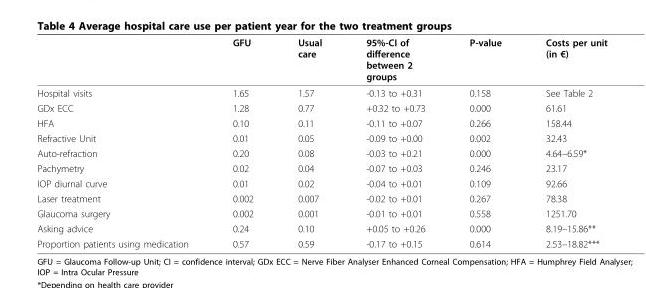table: (36, 36, 606, 248)
table column: (36, 36, 209, 248), (343, 36, 446, 248), (522, 36, 606, 248), (446, 36, 522, 248), (275, 36, 343, 248), (209, 36, 275, 248)
table column header: (36, 36, 606, 84)
table row: (36, 36, 606, 84), (36, 84, 606, 100), (36, 100, 606, 115), (36, 115, 606, 130), (36, 130, 606, 145), (36, 145, 606, 160), (36, 160, 606, 175), (36, 175, 606, 190), (36, 190, 606, 205), (36, 205, 606, 220), (36, 220, 606, 235), (36, 235, 606, 248)
